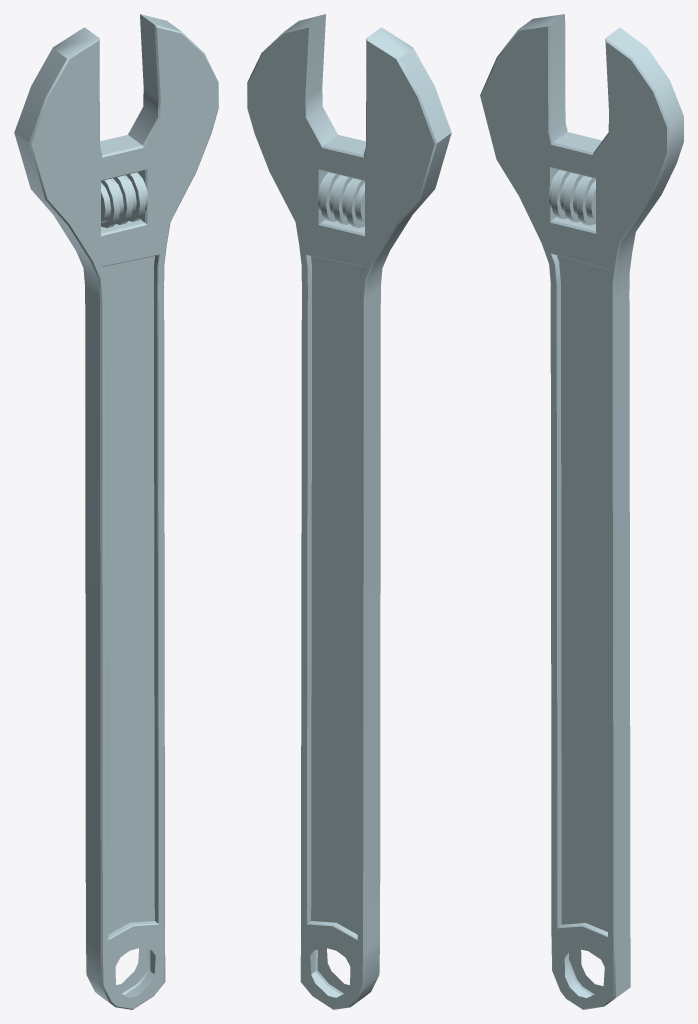
File: Wrench.fbx
3 views of the same model, side by side, from view 1: azimuth 30°, elevation 25°; view 2: azimuth 150°, elevation 25°; view 3: azimuth 330°, elevation 25° (orthographic).
Parts seen in each view (by area): view 1: Wrench; view 2: Wrench; view 3: Wrench.
Part boxes in pixels (left/top/right/bottom): Wrench: left=14, top=14, right=218, bottom=1009; Wrench: left=247, top=14, right=451, bottom=1009; Wrench: left=480, top=14, right=683, bottom=1009.
Bounding box in the file's own units: 10.22 × 50.42 × 2.7.
